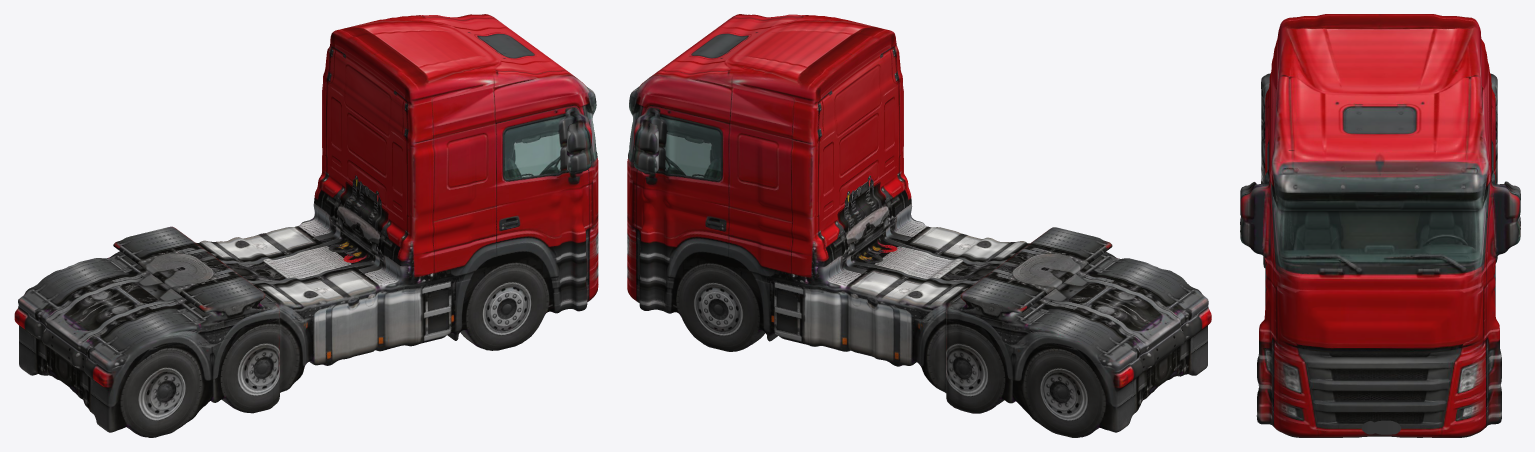
Rendered from tractor.glb.
The picture shows the model from 3 angles, left to right: view 1: azimuth 30°, elevation 25°; view 2: azimuth 150°, elevation 25°; view 3: azimuth 270°, elevation 25°; orthographic projection. The views are drawn at different scales.
Visible parts, largest first — view 1: tractor; view 2: tractor; view 3: tractor.
Boxes of the visible parts, left/top/right/bottom form: tractor: left=14, top=14, right=598, bottom=437; tractor: left=627, top=14, right=1211, bottom=437; tractor: left=1240, top=14, right=1520, bottom=437.
Size of the model in its own units: 6.89 by 3.65 by 2.68.
1 material, 1 textured.
